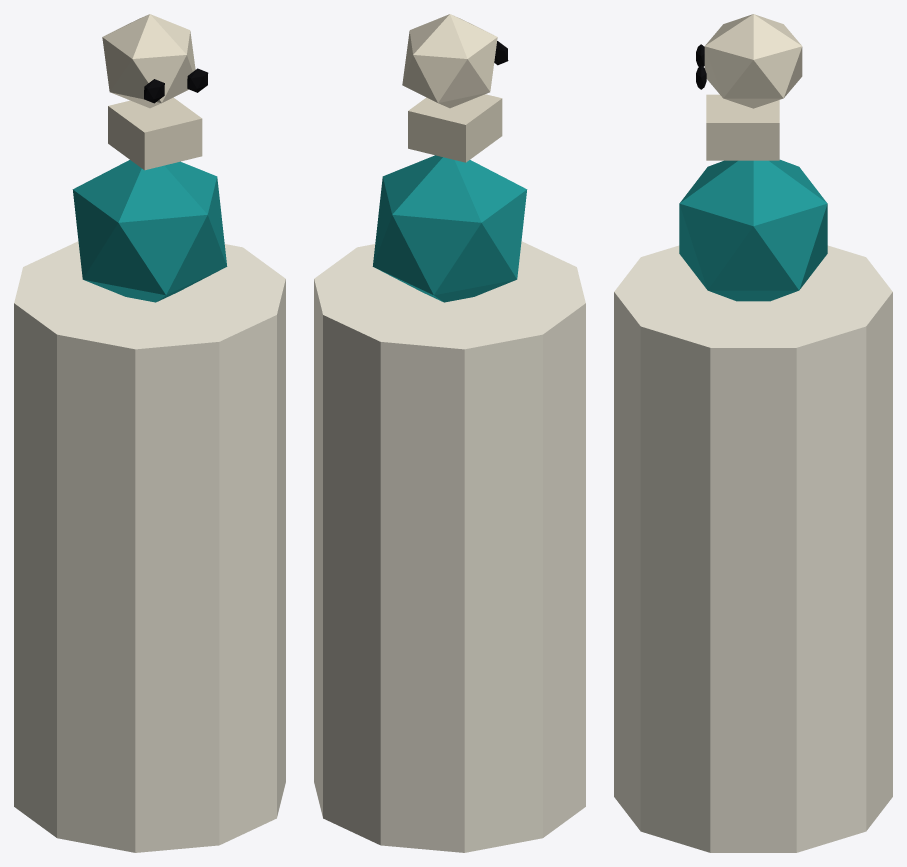
File: Item_OR_Tonic_17.glb
3 renders of one model, left to right at view 1: azimuth 30°, elevation 25°; view 2: azimuth 150°, elevation 25°; view 3: azimuth 270°, elevation 25°, orthographic.
Visible parts, largest first — view 1: Item_OR_Tonic_17; view 2: Item_OR_Tonic_17; view 3: Item_OR_Tonic_17.
Boxes of the visible parts, <box> form: Item_OR_Tonic_17: <box>14,14,285,852</box>; Item_OR_Tonic_17: <box>314,14,585,852</box>; Item_OR_Tonic_17: <box>614,14,892,852</box>.
Size of the model in its own units: 0.0761 by 0.248 by 0.08.
